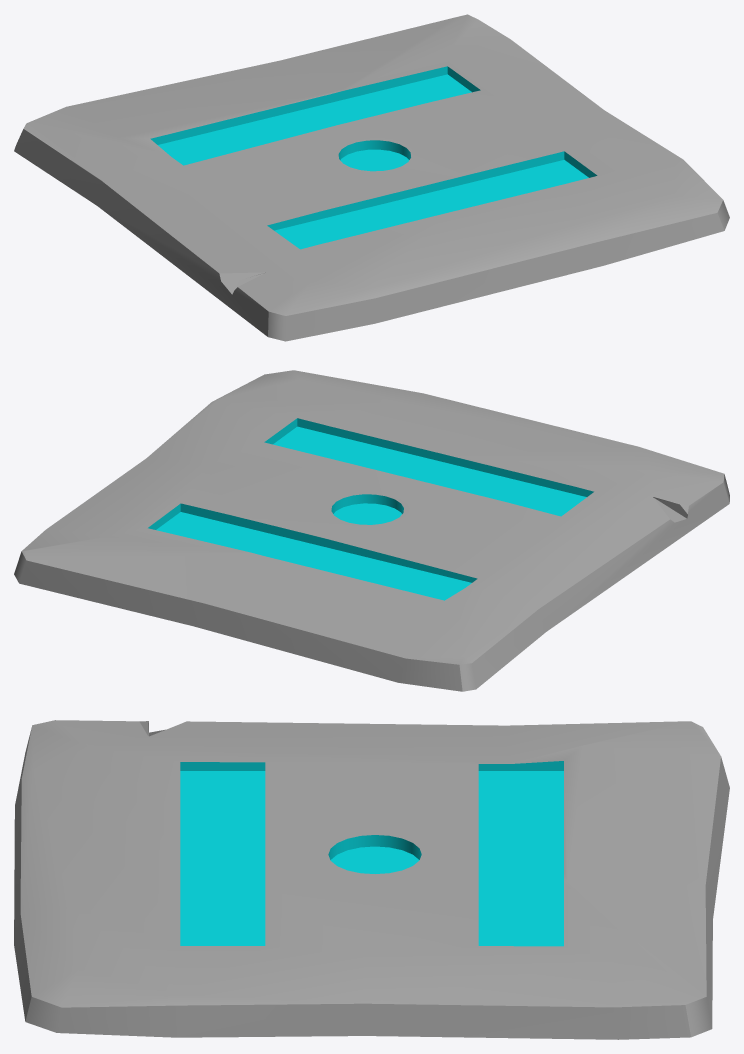
The model's file is dalle11.fbx.
The picture shows the model from 3 angles, top to bottom: view 1: azimuth 30°, elevation 25°; view 2: azimuth 150°, elevation 25°; view 3: azimuth 270°, elevation 25°; orthographic projection. The views are drawn at different scales.
Visible parts, largest first — view 1: pCube5; view 2: pCube5; view 3: pCube5.
Part boxes in pixels (x1,y1,x2,y2): pCube5: (14,14,729,341); pCube5: (14,370,729,691); pCube5: (14,720,729,1039).
Size of the model in its own units: 6.99 by 0.4395 by 7.18.
